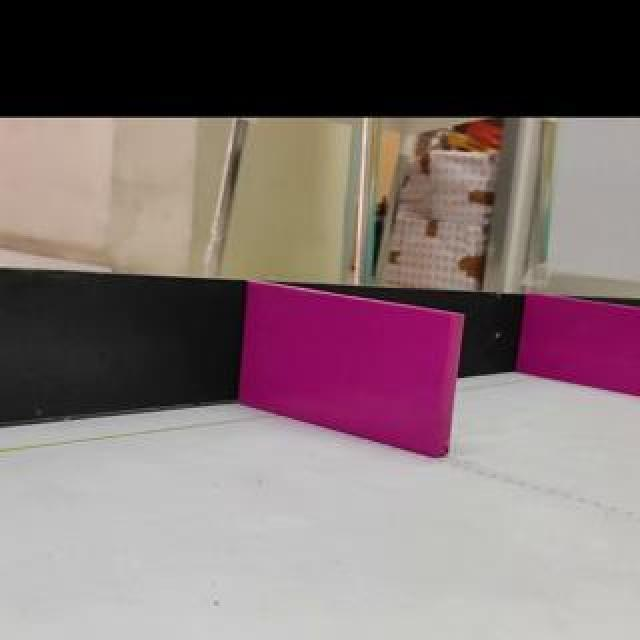xparking: (240, 283, 459, 458), (516, 291, 640, 399)
